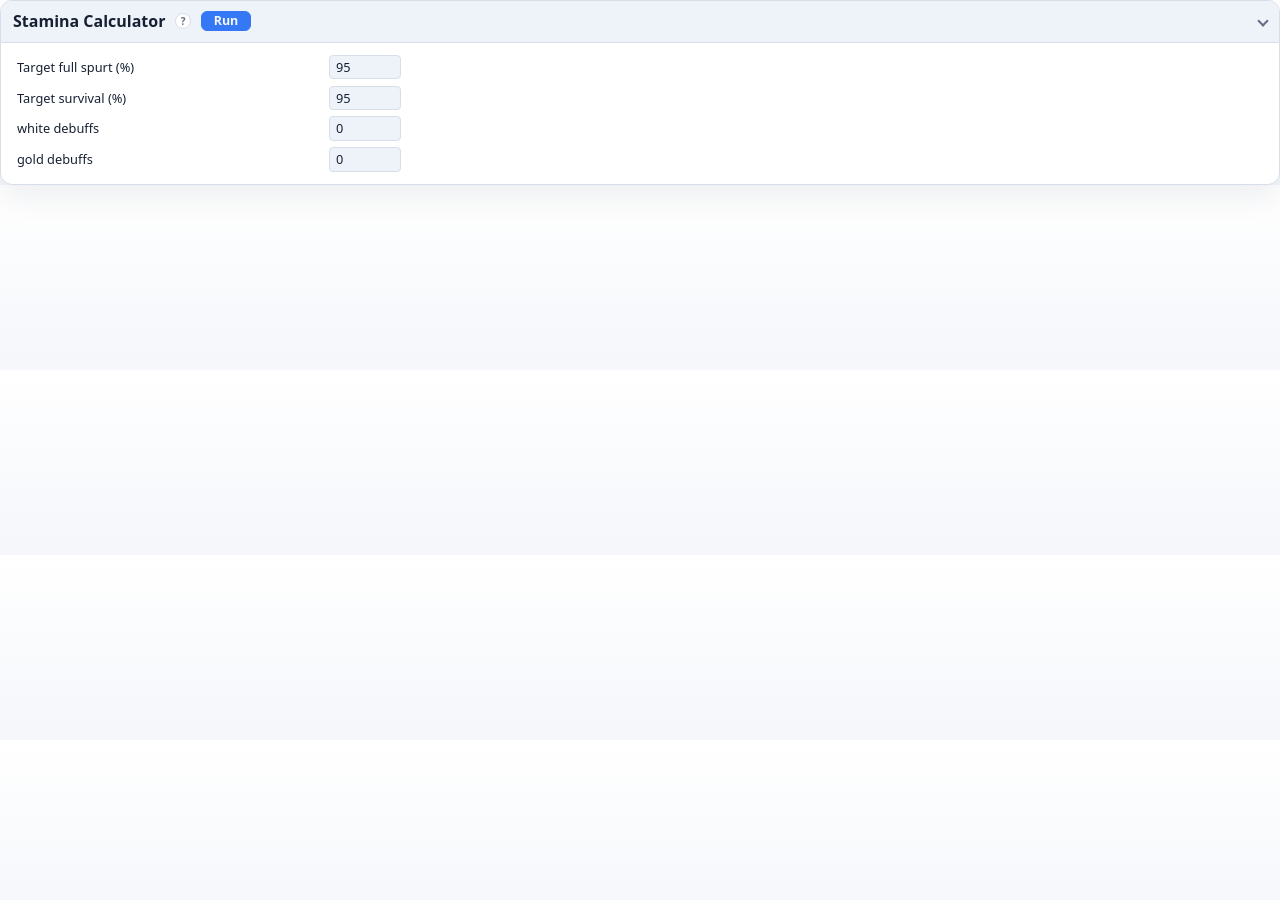
Test: StaminaSpurtTab › full-spurt target input changes the required-stamina target
Set the full-spurt target to 90%
Replace the text in the number field named "full spurt rate" with "90" at (365, 67), box [329,55,401,79]
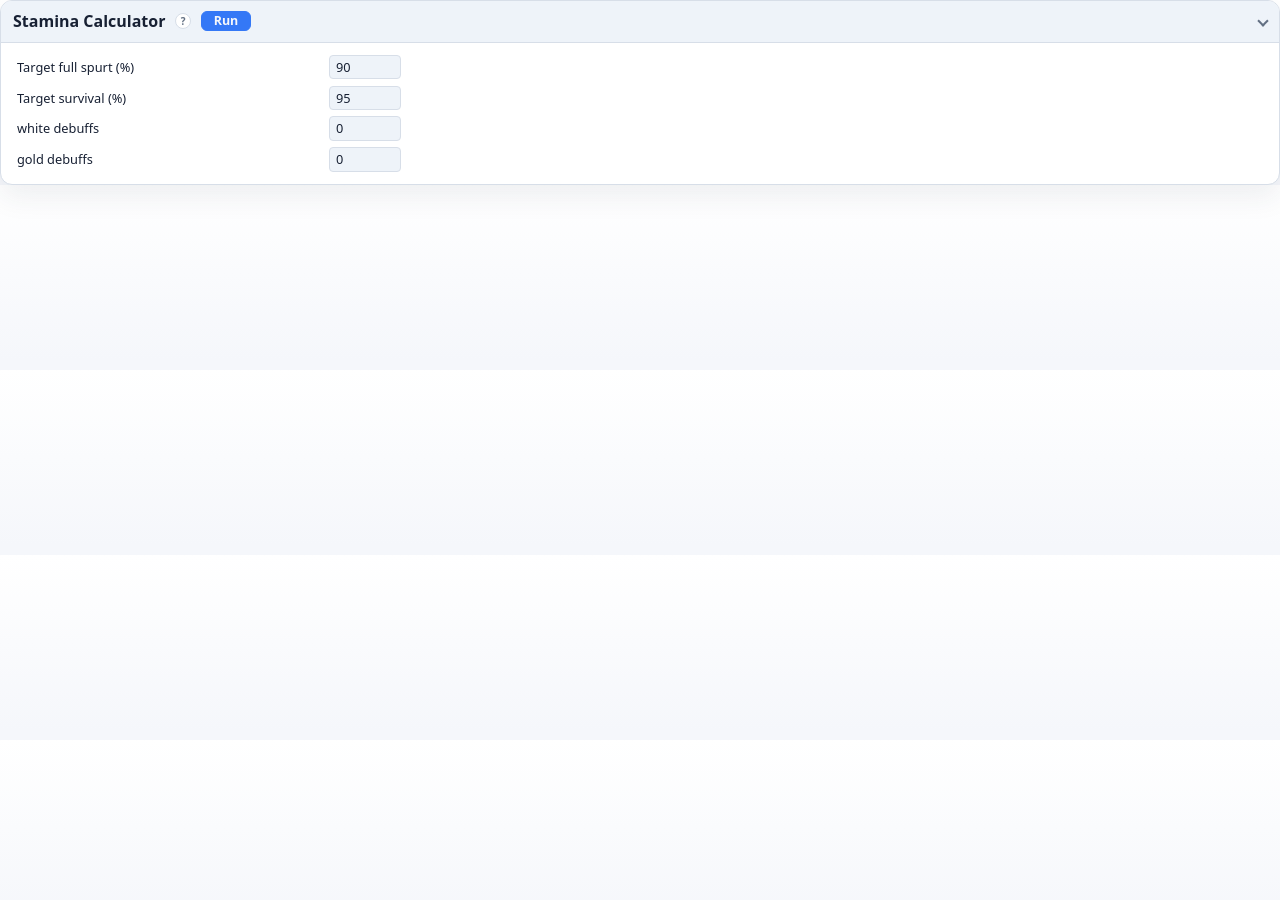
Click the button "Run" at (226, 21), box [201,11,251,31]
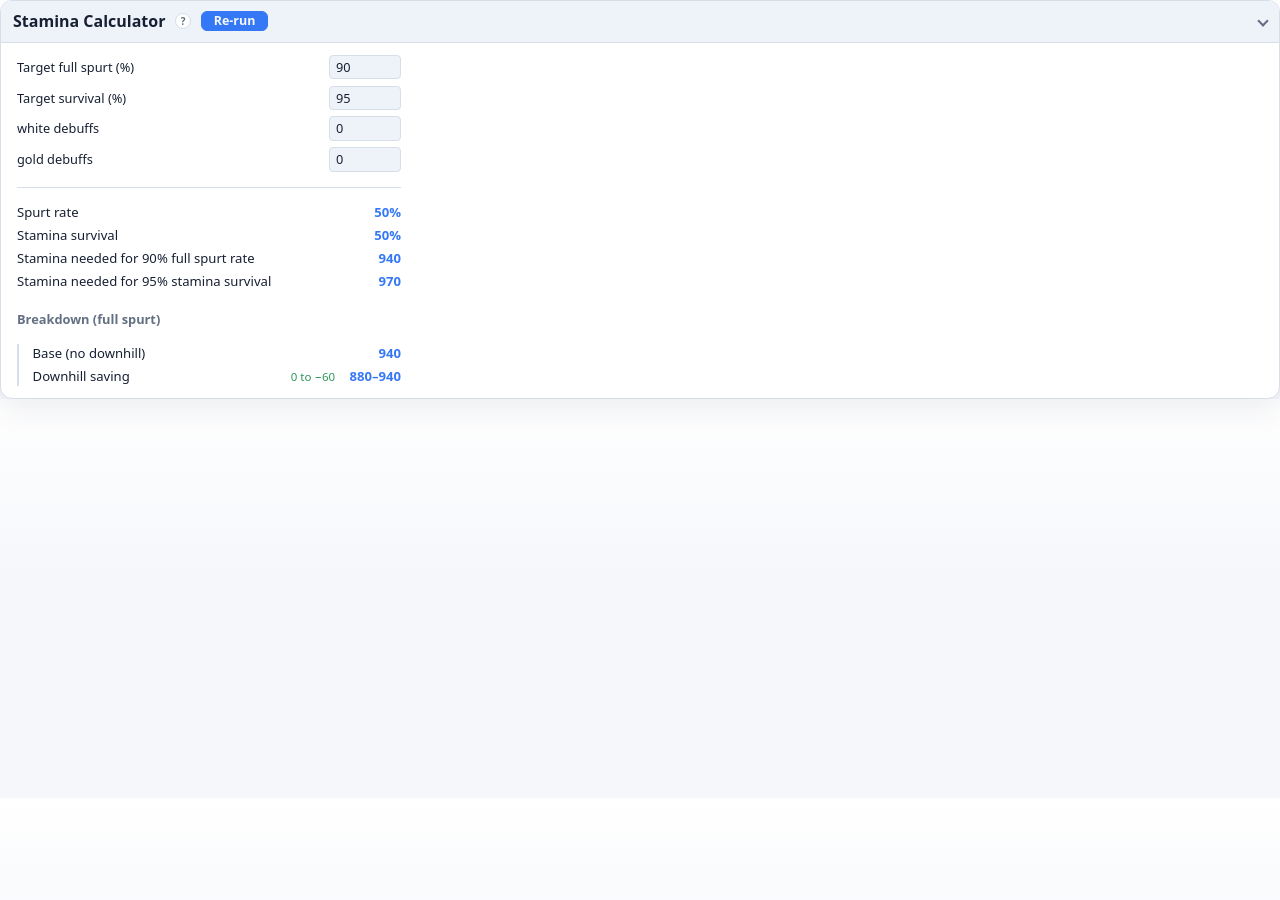
Expected: the text "Stamina needed for 90% full spurt rate" is shown, [17,249,255,267]
Replace the text in the number field named "full spurt rate" with "50" at (365, 67), box [329,55,401,79]
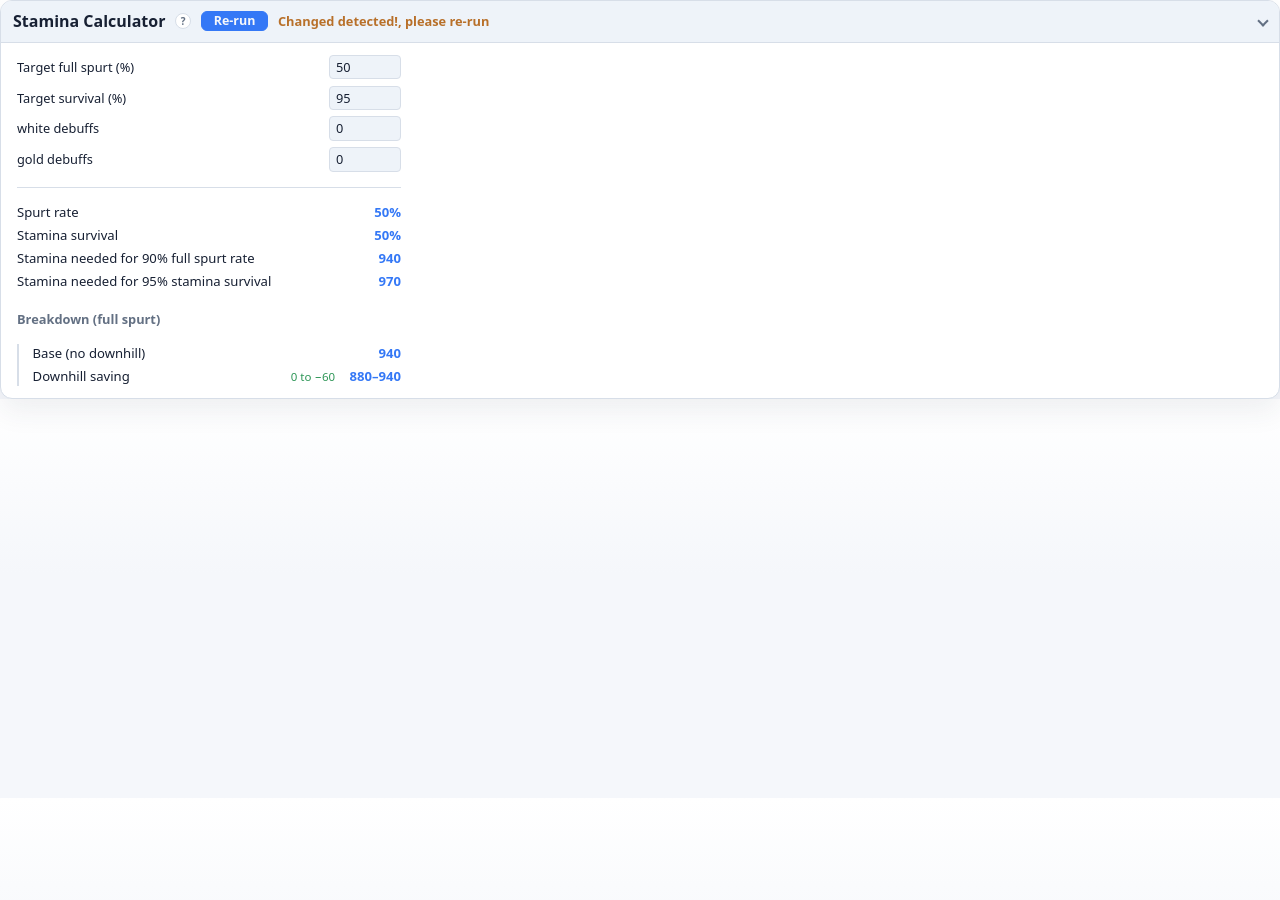
Click the button "Re-run" at (235, 21), box [201,11,268,31]
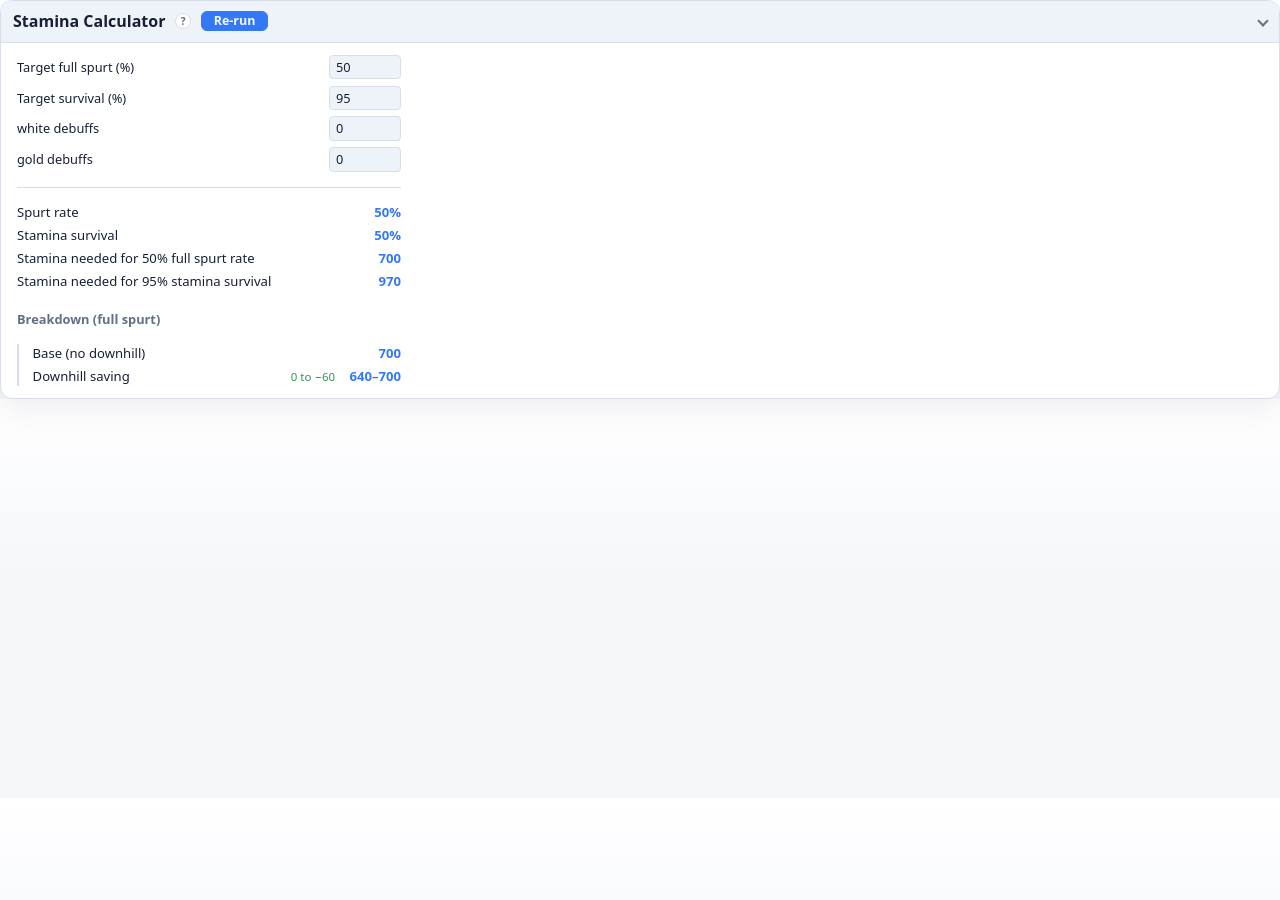
Expected: the text "Stamina needed for 50% full spurt rate" is shown, [17,249,255,267]
